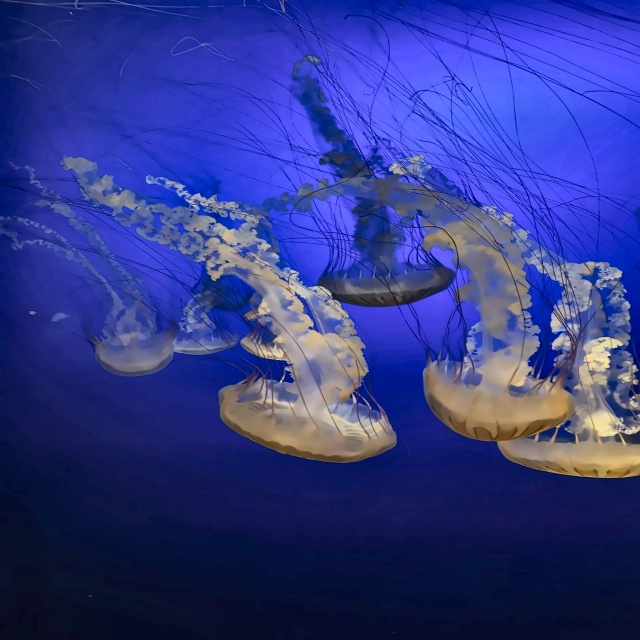jellyfish: (218, 379, 398, 463), (423, 359, 577, 441), (316, 262, 455, 307), (497, 437, 639, 478), (91, 331, 173, 378), (239, 335, 294, 363), (170, 333, 242, 353)
